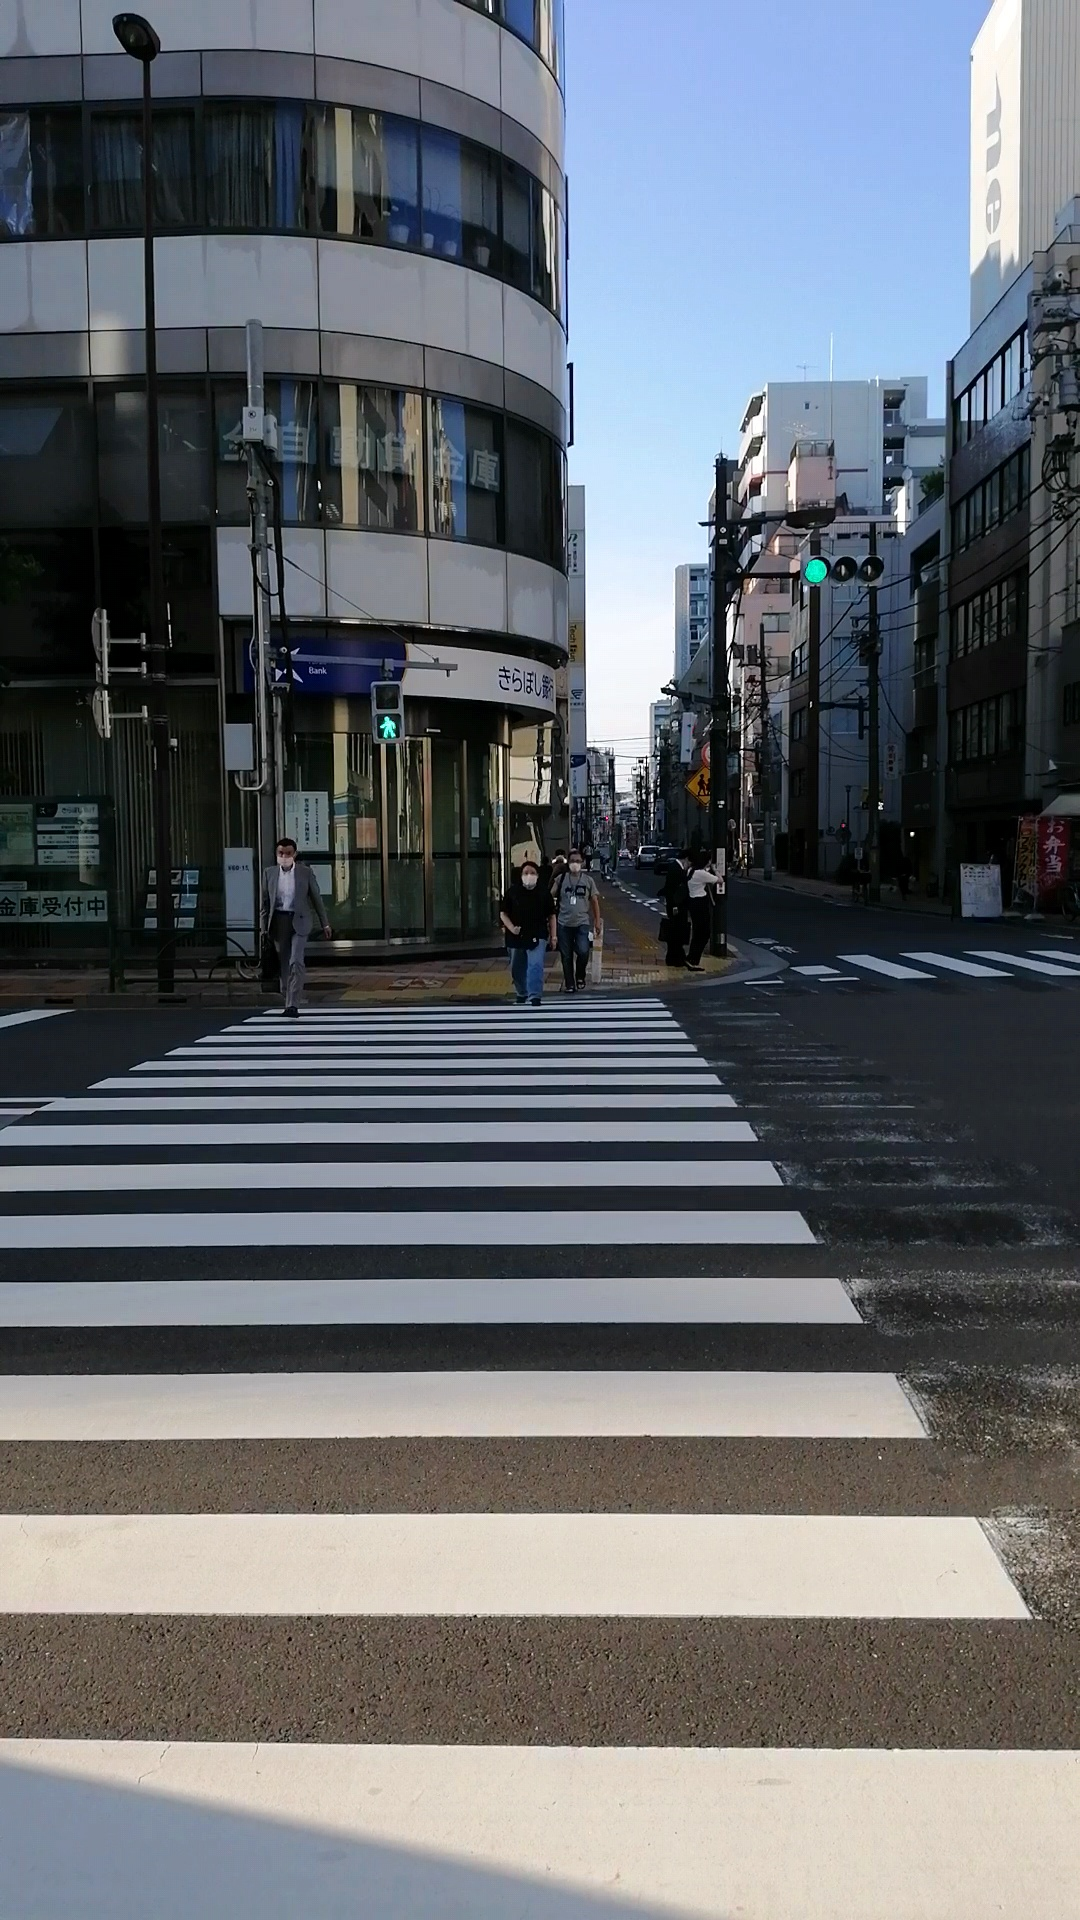green: (368, 678, 405, 744)
